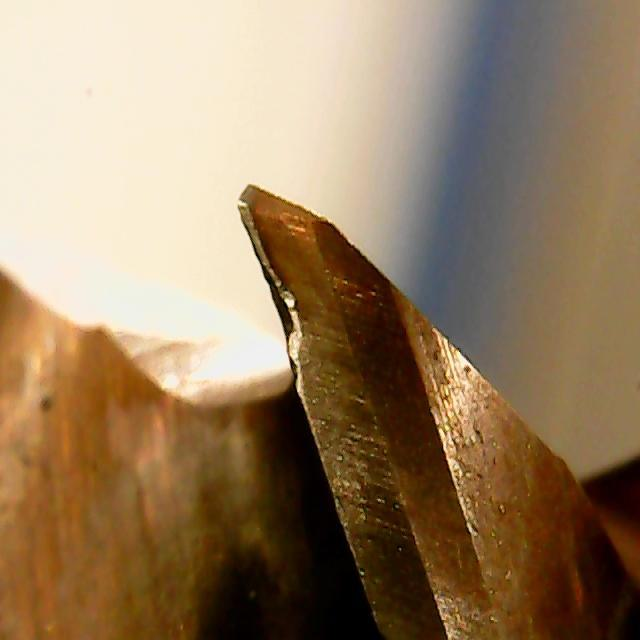Tool-wear-class-1: (229, 160, 389, 485)
